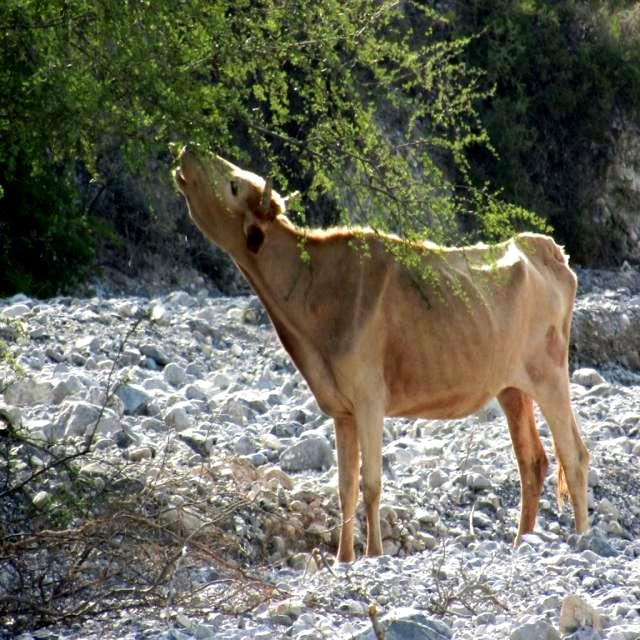COW: (176, 148, 589, 561)
